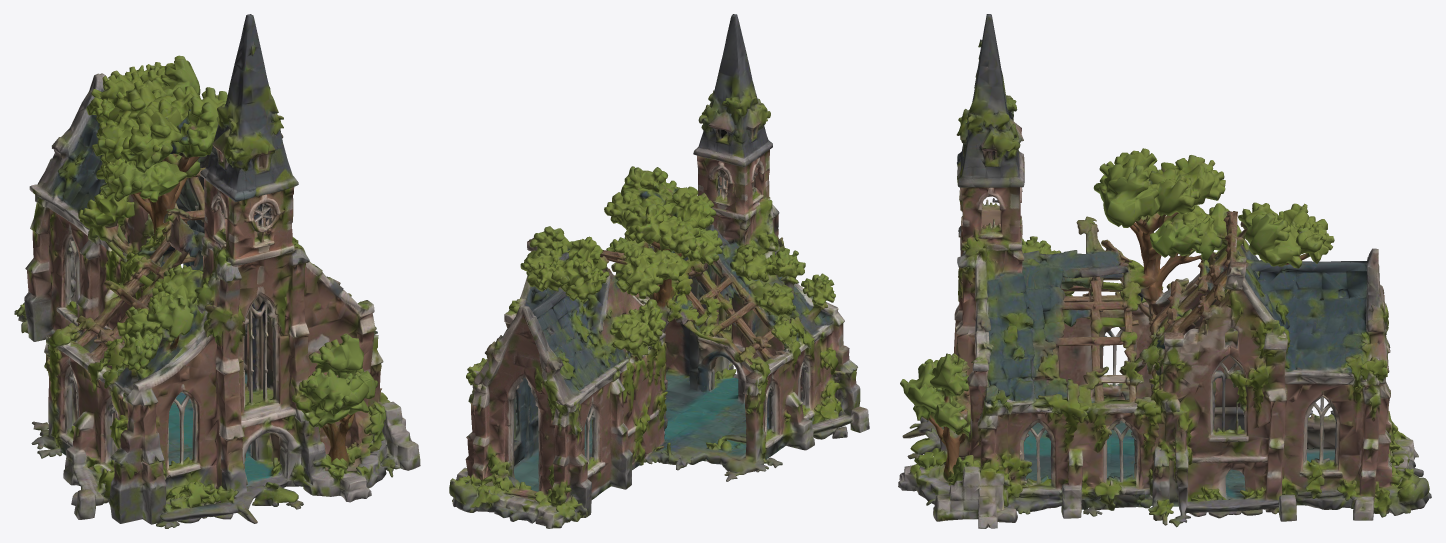
File: cityChurchHi.glb
The picture shows the model from 3 angles, left to right: view 1: azimuth 30°, elevation 25°; view 2: azimuth 150°, elevation 25°; view 3: azimuth 270°, elevation 25°; orthographic projection. The views are drawn at different scales.
Size of the model in its own units: 1.27 by 1.73 by 1.9.
1 material, 1 textured.
